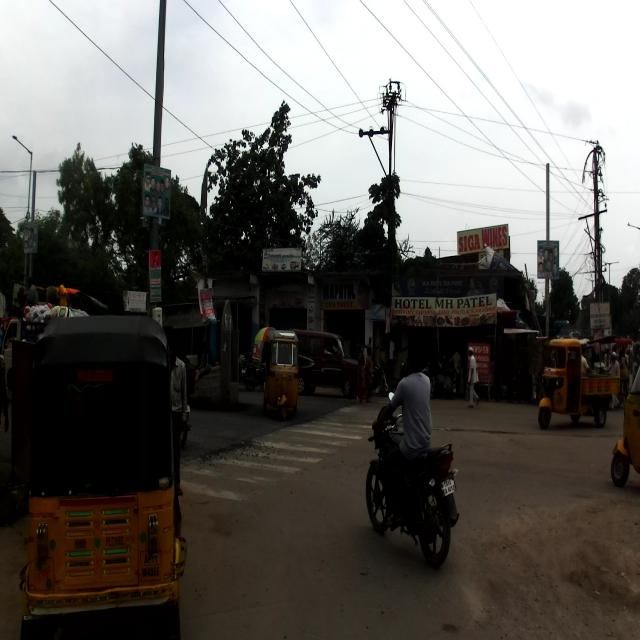autorickshaw: (16, 313, 186, 639), (537, 336, 621, 434), (264, 324, 302, 419)
car: (290, 327, 367, 398)
motorcycle: (364, 390, 459, 570)
